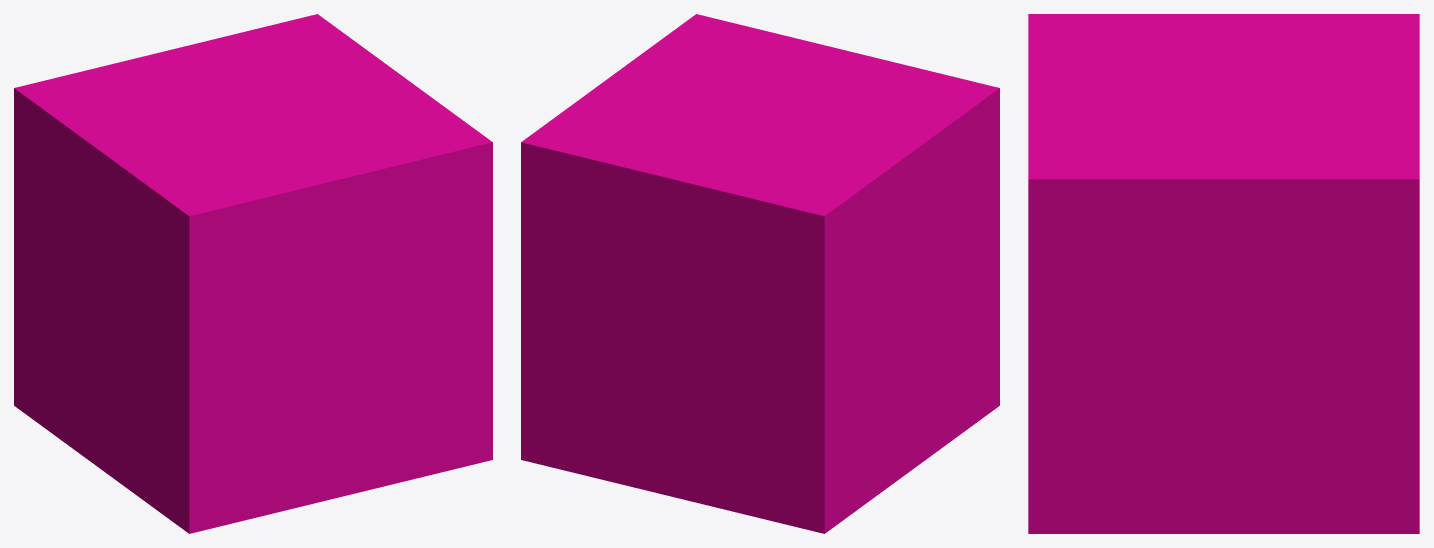
The picture shows the model from 3 angles, left to right: view 1: azimuth 30°, elevation 25°; view 2: azimuth 150°, elevation 25°; view 3: azimuth 270°, elevation 25°; orthographic projection. The views are drawn at different scales.
Parts seen in each view (by area): view 1: Cube; view 2: Cube; view 3: Cube.
Part boxes in pixels (x1,y1,x2,y2): Cube: (14,14,492,533); Cube: (521,14,999,533); Cube: (1028,14,1419,533).
Bounding box in the file's own units: 1 × 1 × 1.
